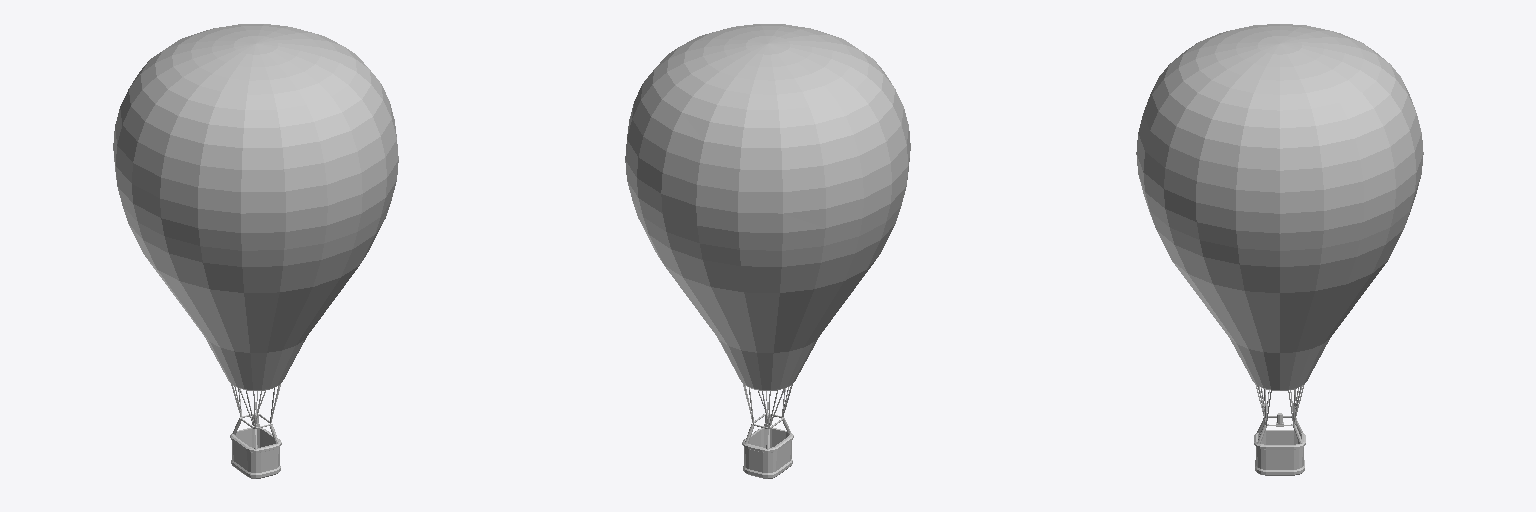
Rendered from rqq.obj.
3 views of the same model, side by side, from view 1: azimuth 30°, elevation 25°; view 2: azimuth 150°, elevation 25°; view 3: azimuth 270°, elevation 25° (orthographic).
Parts seen in each view (by area): view 1: Balloon__2_; view 2: Balloon__2_; view 3: Balloon__2_.
Part boxes in pixels (left/top/right/bottom): Balloon__2_: left=113, top=24, right=398, bottom=478; Balloon__2_: left=625, top=24, right=910, bottom=478; Balloon__2_: left=1136, top=24, right=1423, bottom=475.
Size of the model in its own units: 41.39 by 67.54 by 41.39.